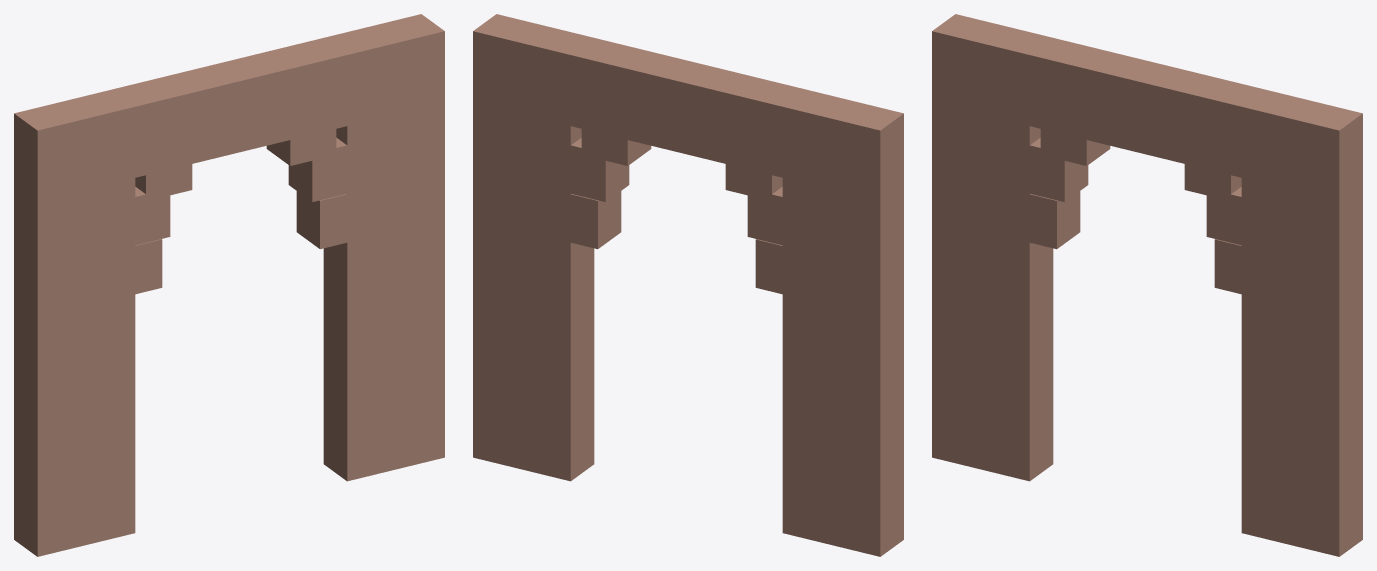
The model's file is iz3_neighborhood_kemer_taş.glb.
3 views of the same model, side by side, from view 1: azimuth 30°, elevation 25°; view 2: azimuth 150°, elevation 25°; view 3: azimuth 330°, elevation 25° (orthographic).
Parts seen in each view (by area): view 1: pier_l, pier_r, spandrel, voussoir_00, voussoir_01, voussoir_06, voussoir_03, voussoir_02, voussoir_07, voussoir_08, voussoir_04, voussoir_05; view 2: pier_l, pier_r, spandrel, voussoir_00, voussoir_01, voussoir_07, voussoir_02, voussoir_03, voussoir_08, voussoir_04, voussoir_06, voussoir_05; view 3: pier_r, pier_l, spandrel, voussoir_08, voussoir_07, voussoir_01, voussoir_04, voussoir_00, voussoir_06, voussoir_05, voussoir_02, voussoir_03.
Part boxes in pixels (x1,y1,x2,y2): pier_l: [14, 89, 135, 556]; pier_r: [323, 14, 444, 481]; spandrel: [106, 36, 352, 177]; voussoir_00: [296, 190, 366, 249]; voussoir_01: [288, 137, 358, 202]; voussoir_06: [135, 142, 192, 200]; voussoir_03: [257, 87, 303, 145]; voussoir_02: [266, 107, 336, 165]; voussoir_07: [124, 187, 170, 247]; voussoir_08: [116, 239, 162, 297]; voussoir_04: [218, 88, 263, 145]; voussoir_05: [179, 110, 223, 165]; pier_l: [782, 89, 903, 556]; pier_r: [473, 14, 594, 481]; spandrel: [564, 36, 810, 177]; voussoir_00: [551, 190, 621, 249]; voussoir_01: [559, 137, 629, 202]; voussoir_07: [747, 187, 793, 247]; voussoir_02: [581, 107, 651, 165]; voussoir_03: [614, 87, 660, 146]; voussoir_08: [755, 239, 801, 297]; voussoir_04: [653, 87, 699, 145]; voussoir_06: [725, 144, 782, 200]; voussoir_05: [692, 108, 738, 165]; pier_r: [1241, 89, 1362, 556]; pier_l: [932, 14, 1053, 481]; spandrel: [1023, 36, 1270, 177]; voussoir_08: [1010, 190, 1080, 249]; voussoir_07: [1018, 137, 1088, 202]; voussoir_01: [1206, 187, 1252, 247]; voussoir_04: [1112, 87, 1158, 145]; voussoir_00: [1214, 239, 1260, 297]; voussoir_06: [1040, 107, 1110, 165]; voussoir_05: [1073, 87, 1119, 146]; voussoir_02: [1184, 143, 1241, 195]; voussoir_03: [1151, 108, 1197, 165].
Size of the model in its own units: 3 by 3 by 0.3.
